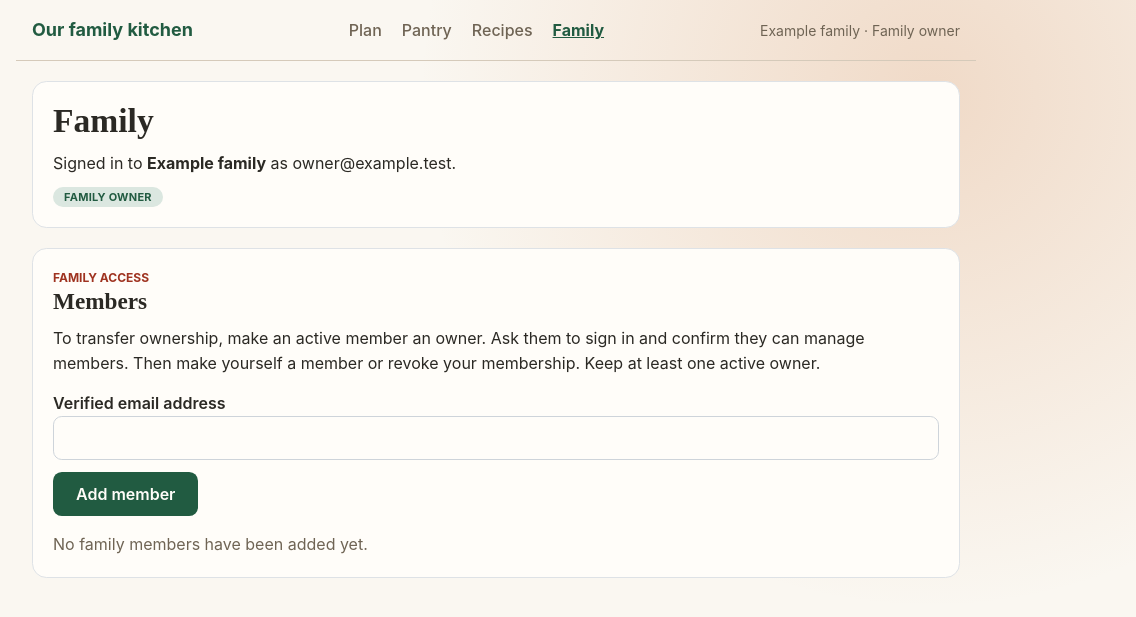
Test: App › shows a safe conflict message when adding a member fails without an error body
The width and height of the screenshot is (1136, 617).
Expected: the heading "Members" is shown, [53,288,147,314]
Type "duplicate@example.test" into the field labelled "Verified email address" at (496, 438), box [53,416,939,460]
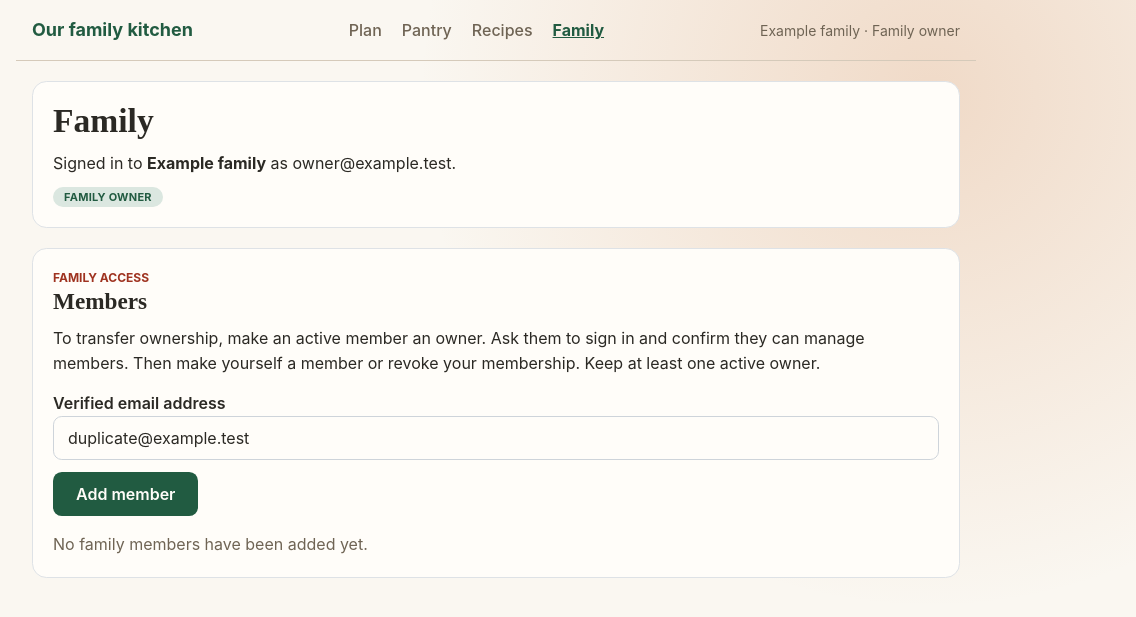
Click the button "Add member" at (126, 494), box [53,472,198,516]
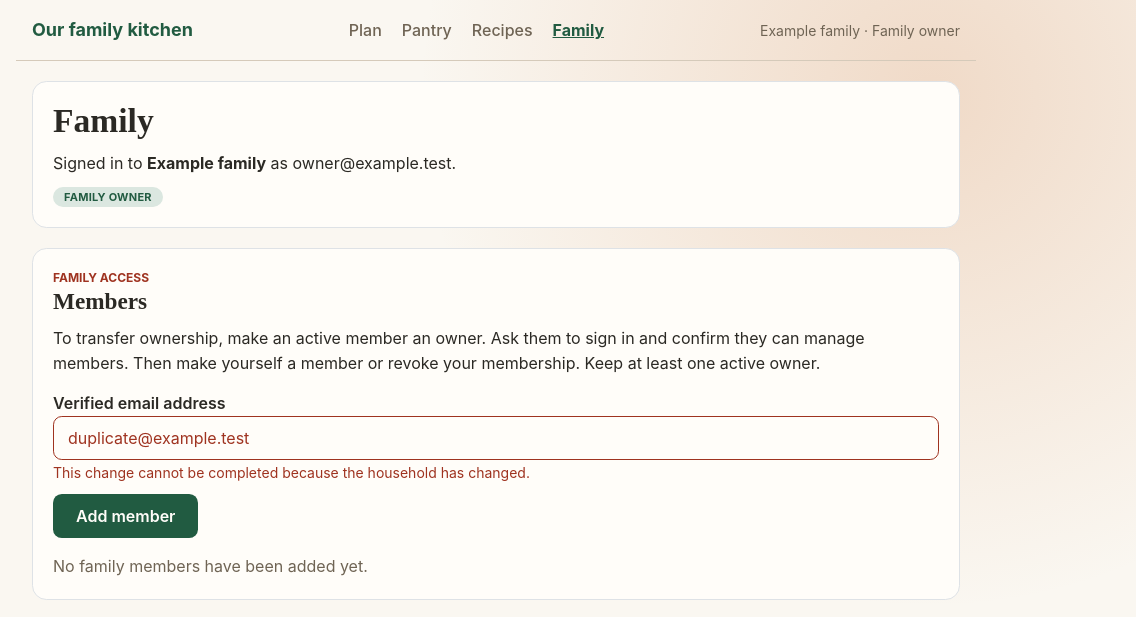
Result: the message reads "This change cannot be completed because the household has changed." at [53,464,530,481]
